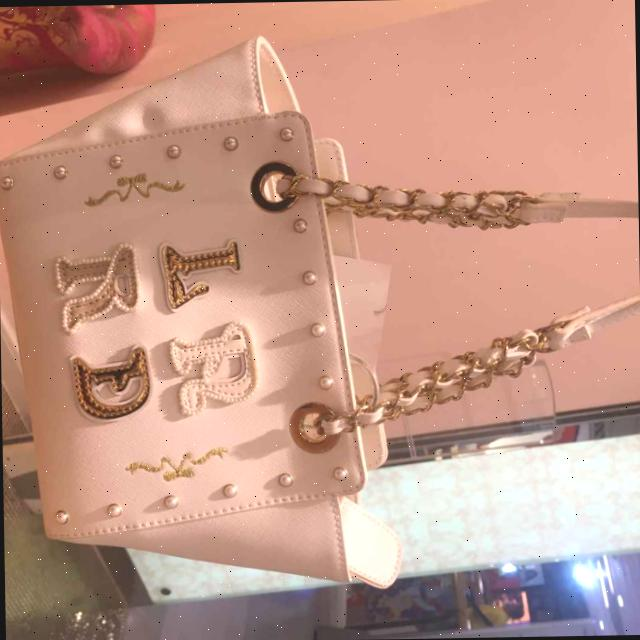handbag: (0, 33, 457, 593)
